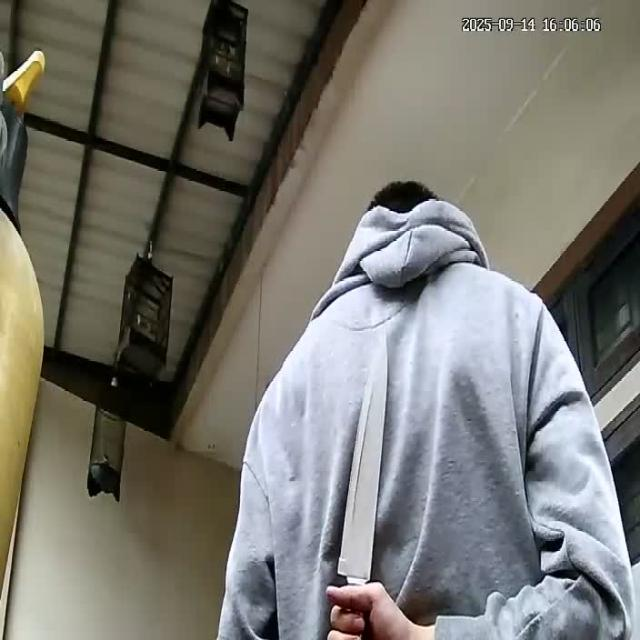senjata_tajam: (334, 323, 390, 587)
